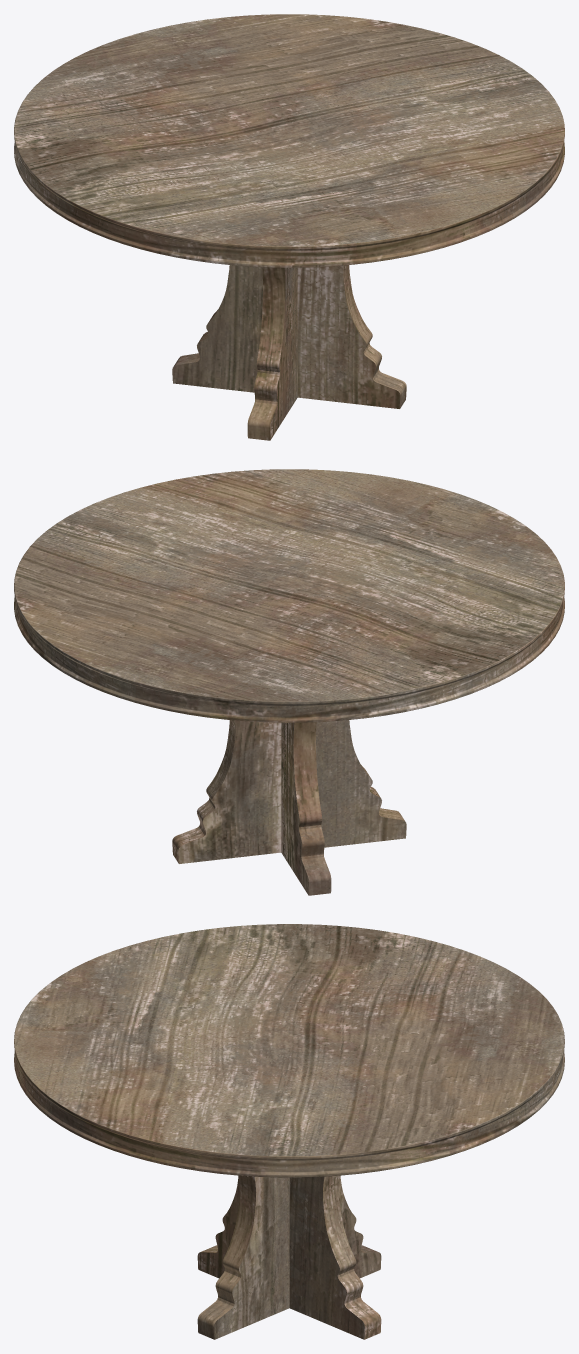
File: Round_SM_Table_Round.fbx
The picture shows the model from 3 angles, top to bottom: view 1: azimuth 30°, elevation 25°; view 2: azimuth 150°, elevation 25°; view 3: azimuth 270°, elevation 25°; orthographic projection.
Parts seen in each view (by area): view 1: Round_SM_Table_Round_LOD0; view 2: Round_SM_Table_Round_LOD0; view 3: Round_SM_Table_Round_LOD0.
Part boxes in pixels (bbox=[...]): Round_SM_Table_Round_LOD0: bbox=[14, 14, 564, 440]; Round_SM_Table_Round_LOD0: bbox=[14, 469, 564, 895]; Round_SM_Table_Round_LOD0: bbox=[14, 924, 564, 1339].
Size of the model in its own units: 152 by 152 by 79.57.
Materials: 1 (1 with a texture image).
